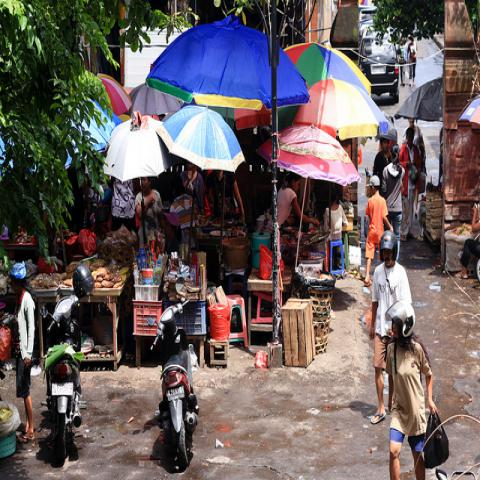car: (360, 30, 398, 104), (359, 28, 394, 54)
motorcycle: (147, 282, 199, 471), (40, 296, 83, 466)
